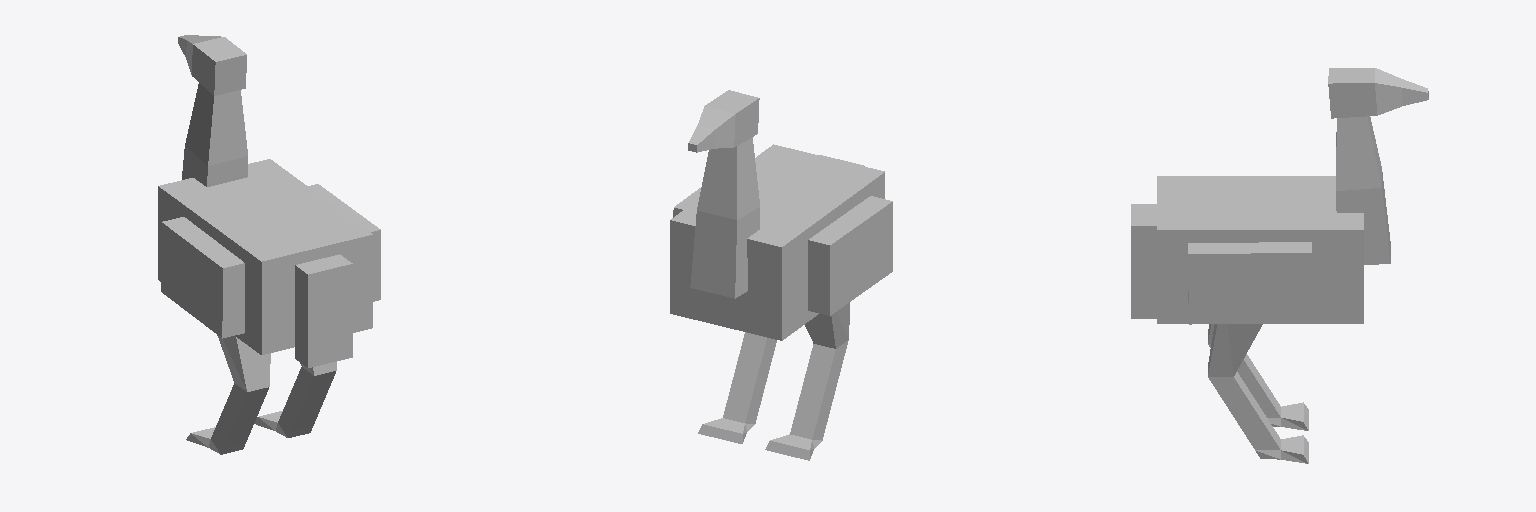
File: Ostrich_000057.obj
The picture shows the model from 3 angles: view 1: azimuth 30°, elevation 25°; view 2: azimuth 150°, elevation 25°; view 3: azimuth 270°, elevation 25°; orthographic projection.
Parts seen in each view (by area): view 1: Cube_Cube.001; view 2: Cube_Cube.001; view 3: Cube_Cube.001.
Part boxes in pixels (x1,y1,x2,y2): Cube_Cube.001: (158, 35, 380, 454); Cube_Cube.001: (670, 90, 892, 460); Cube_Cube.001: (1131, 68, 1428, 463).
Size of the model in its own units: 0.7073 by 1.54 by 1.15.